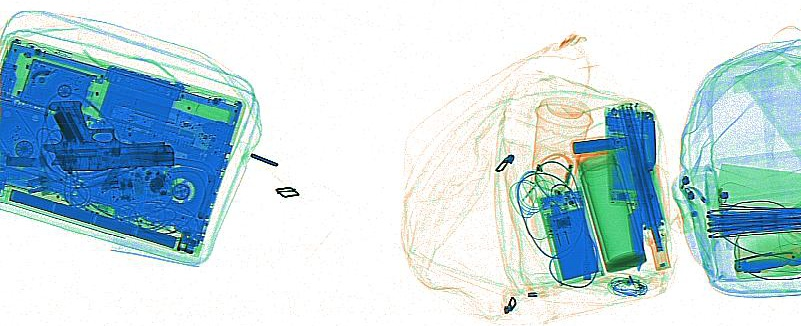knife: (733, 249, 798, 273), (638, 109, 656, 171)
